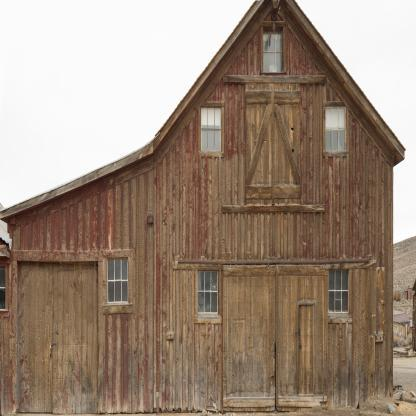Building Outline: (0, 0, 406, 415)
Door: (224, 265, 329, 412), (17, 260, 98, 413)
Facade: (199, 76, 351, 413)
Floor Slab: (154, 233, 393, 241)
Ground Floor: (0, 241, 393, 413)
Roof: (0, 219, 12, 250), (0, 202, 5, 210)
Top Floor: (153, 2, 394, 234)
Window: (246, 83, 301, 205), (107, 258, 128, 303), (198, 270, 218, 316), (202, 108, 222, 150), (329, 270, 349, 312), (263, 29, 282, 72), (326, 107, 345, 150), (0, 266, 5, 309)
